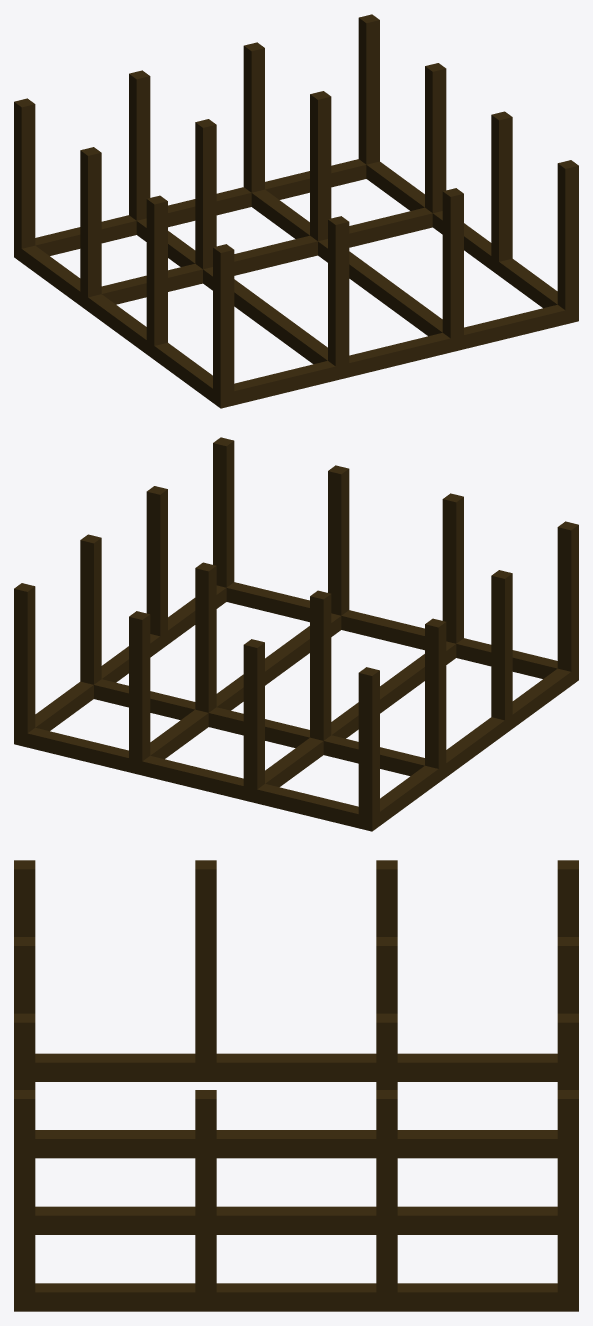
The model's file is konstrukcija_3x3_Sprat.FBX.
The picture shows the model from 3 angles, top to bottom: view 1: azimuth 30°, elevation 25°; view 2: azimuth 150°, elevation 25°; view 3: azimuth 270°, elevation 25°; orthographic projection. The views are drawn at different scales.
Parts seen in each view (by area): view 1: Object032; view 2: Object032; view 3: Object032.
Part boxes in pixels (left/top/right/bottom): Object032: left=14, top=14, right=578, bottom=408; Object032: left=14, top=437, right=578, bottom=831; Object032: left=14, top=860, right=578, bottom=1311.
Size of the model in its own units: 530 by 220 by 530.
